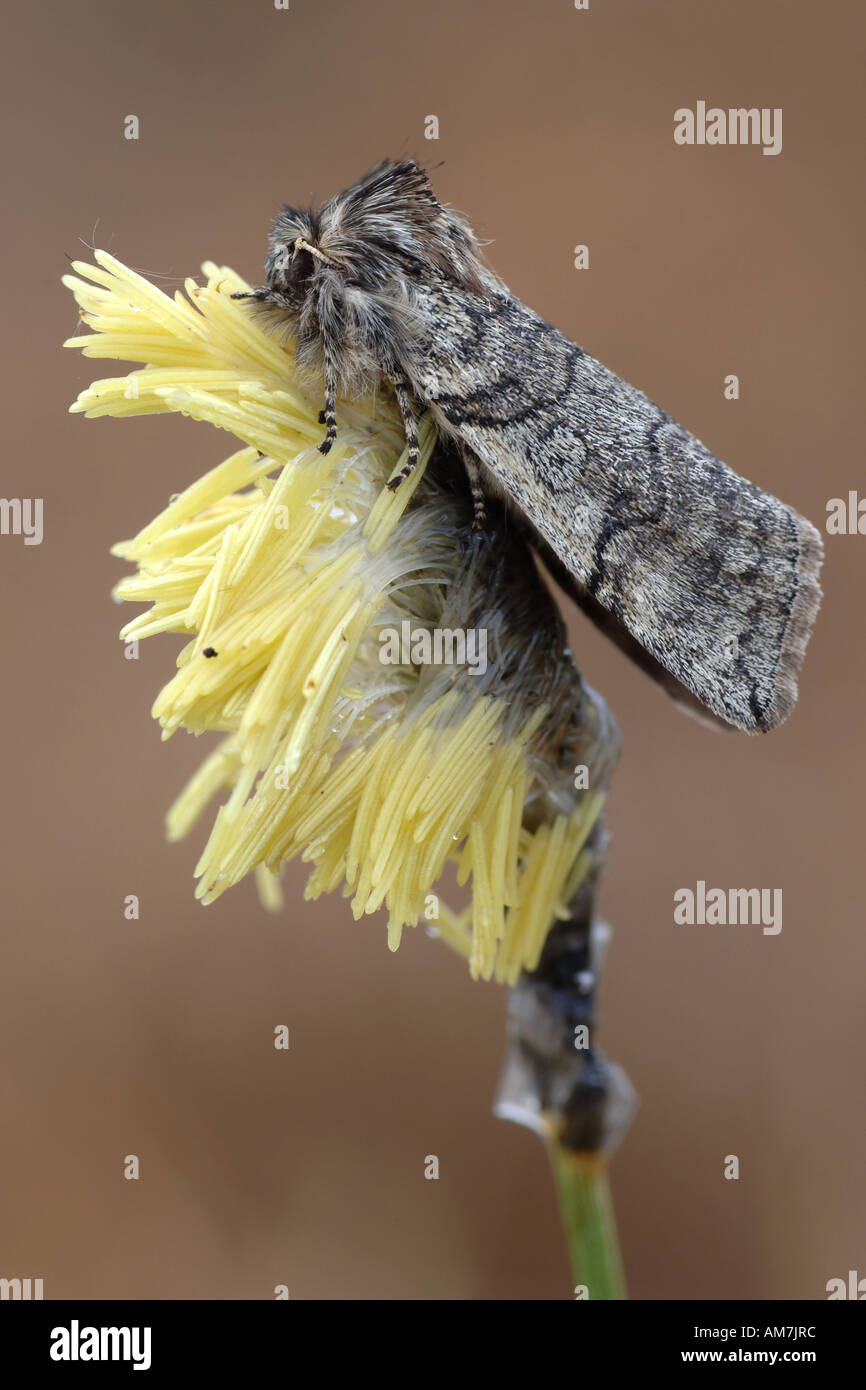Noctuidae: (240, 155, 824, 737)
